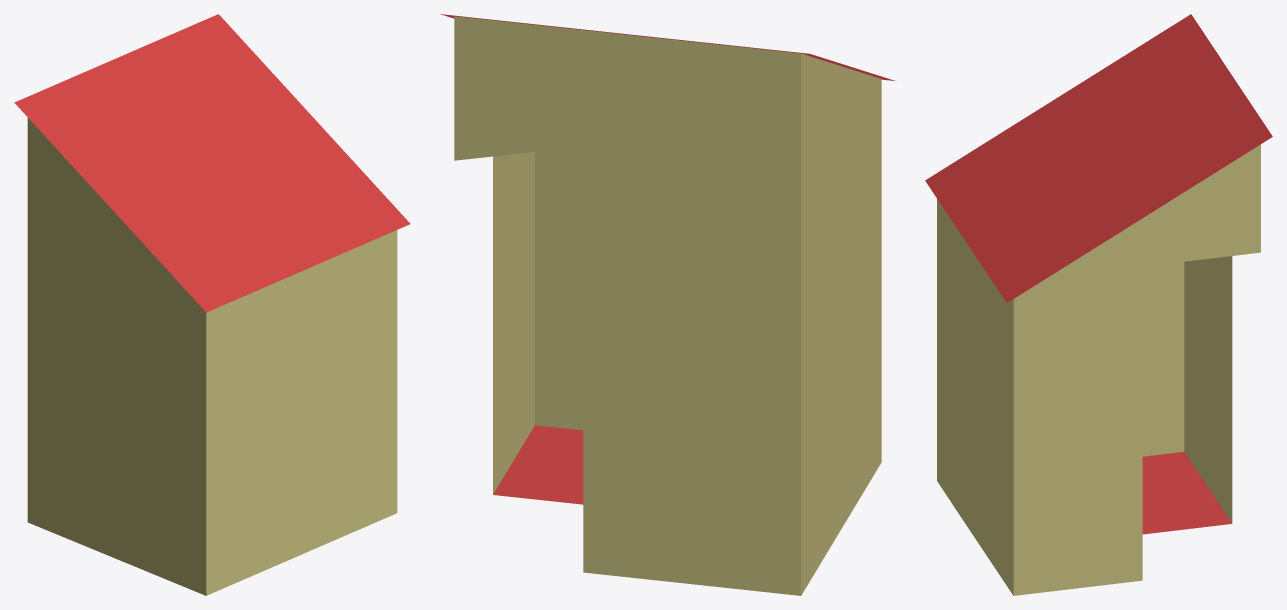
3 renders of one model, left to right at view 1: azimuth 30°, elevation 25°; view 2: azimuth 150°, elevation 25°; view 3: azimuth 270°, elevation 25°, orthographic. The views are drawn at different scales.
Bounding box in the file's own units: 9.37 × 8.92 × 12.24.
